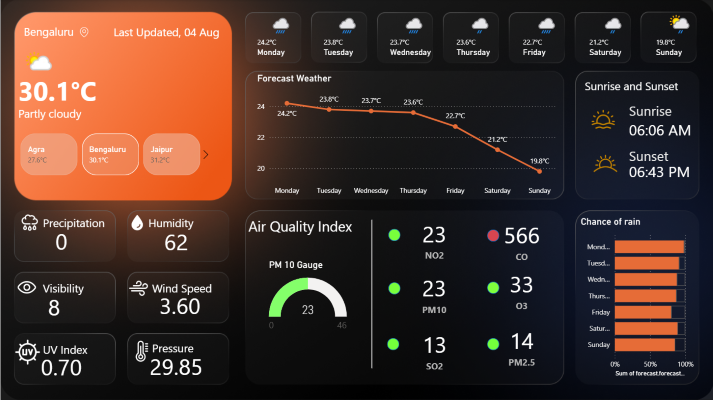

This screenshot's page, from the dashboard's own definition file:
{"tool":"powerbi","page":{"name":"Page 1","canvas":[1280,720],"ordinal":0},"visuals":[{"type":"shape","box":[1125.9,262.2,154.1,91.9],"z":0,"group":"g1"},{"type":"advancedSlicerVisual","fields":{"Values":["Location.location.name"]},"box":[10.7,235.7,372.6,85.7],"z":0},{"type":"shape","box":[1125.9,234.6,154.1,91.9],"z":1000,"group":"g1"},{"type":"shape","box":[32.1,115.5,153.6,92.9],"z":1000},{"type":"shape","box":[32.1,161.9,328.6,84.5],"z":2000},{"type":"shape","box":[41.9,14.8,110.9,86.3],"z":3000},{"type":"shape","box":[193.2,40.5,198.6,35.1],"z":4000},{"type":"image","box":[106.8,44.6,86.5,27],"z":5000},{"type":"cardVisual","fields":{"Data":["Min(Current.current.condition.icon)"]},"box":[19,69,103.6,92.9],"z":6000},{"type":"image","box":[21.6,491.9,50,48.6],"z":7000},{"type":"shape","box":[75.7,364.9,154.1,68.9],"z":8000},{"type":"shape","box":[264.9,364.9,154.1,68.9],"z":9000},{"type":"shape","box":[75.7,481.1,154.1,68.9],"z":10000},{"type":"shape","box":[271.6,481.1,154.1,68.9],"z":11000},{"type":"shape","box":[75.7,591.9,154.1,68.9],"z":12000},{"type":"shape","box":[271.6,589.2,154.1,68.9],"z":13000},{"type":"image","box":[29.7,377,45.9,45.9],"z":14000},{"type":"image","box":[18.9,604.1,59.5,56.8],"z":15000},{"type":"image","box":[225.7,377,39.2,45.9],"z":16000},{"type":"image","box":[221.6,494.6,50,45.9],"z":17000},{"type":"image","box":[229.7,604.1,47.3,54.1],"z":18000},{"type":"card","fields":{"Values":["Sum(Current.current.humidity)"]},"box":[258.1,401.4,113.5,64.9],"z":19000},{"type":"card","fields":{"Values":["Sum(Current.current.wind_kph)"]},"box":[264.9,516.2,113.5,64.9],"z":20000},{"type":"card","fields":{"Values":["Sum(Current.current.pressure_in)"]},"box":[258.1,624.3,113.5,64.9],"z":21000},{"type":"card","fields":{"Values":["Sum(Current.current.uv)"]},"box":[52.7,625.7,113.5,64.9],"z":22000},{"type":"card","fields":{"Values":["Sum(Current.current.vis_km)"]},"box":[39.2,517.6,113.5,64.9],"z":23000},{"type":"card","fields":{"Values":["Sum(Current.current.precip_in)"]},"box":[52.7,400,113.5,64.9],"z":24000},{"type":"advancedSlicerVisual","fields":{"Values":["Forceast_by_day.Day Name"]},"box":[441.9,14.9,837.8,101.4],"z":25000},{"type":"lineChart","title":"Forecast Weather","fields":{"Category":["Forceast_by_day.Day Name"],"Y":["Sum(Forceast_by_day.forecast.forecastday.day.avgtemp_c)"]},"box":[455.4,131.1,545.9,229.7],"z":26000},{"type":"shape","box":[1047.3,140.5,200,35.1],"z":27000},{"type":"shape","box":[1125.9,186.8,154.1,91.9],"z":28000},{"type":"shape","box":[1125.9,153.2,154.1,91.9],"z":29000},{"type":"group","id":"g1","title":"Group 1","box":[1125.9,234.6,154.1,120.3],"z":30000},{"type":"image","box":[1053.5,188.6,52.7,51.4],"z":31000},{"type":"image","box":[1048.6,260.5,68.9,66.2],"z":32000},{"type":"hundredPercentStackedBarChart","title":"Chance of rain","fields":{"Y":["Sum(Forceast_by_day.forecast.forecastday.day.daily_chance_of_rain)","_Measures.Left_Value_Rain"],"Category":["Forceast_by_day.Day Name"]},"box":[1034.7,388.2,212.2,293.6],"z":33000},{"type":"card","fields":{"Values":["Sum(Current.current.air_quality.co)"]},"box":[871.6,387.8,124.3,87.8],"z":34000},{"type":"shape","box":[444.2,371.7,250.7,69.3],"z":35000},{"type":"card","fields":{"Values":["Sum(Current.current.air_quality.o3)"]},"box":[871.6,475.7,124.3,87.8],"z":36000},{"type":"card","fields":{"Values":["Sum(Current.current.air_quality.no2)"]},"box":[720.3,385.1,114.9,90.5],"z":37000},{"type":"card","fields":{"Values":["Sum(Current.current.air_quality.pm10)"]},"box":[704.1,474.3,147.3,106.8],"z":38000},{"type":"card","fields":{"Values":["Sum(Current.current.air_quality.so2)"]},"box":[716.2,589.2,124.3,78.4],"z":39000},{"type":"card","fields":{"Values":["Sum(Current.current.air_quality.pm2_5)"]},"box":[871.6,577,124.3,87.8],"z":40000},{"type":"shape","box":[694.6,410.8,21.6,21.6],"z":41000},{"type":"shape","box":[693.2,606.8,21.6,21.6],"z":42000},{"type":"shape","box":[694.6,506.8,21.6,21.6],"z":43000},{"type":"shape","box":[871.6,505.4,21.6,21.6],"z":44000},{"type":"shape","box":[871.6,606.8,21.6,21.6],"z":45000},{"type":"shape","box":[871.6,412.2,21.6,21.6],"z":46000},{"type":"shape","box":[587.8,394.6,154.1,266.2],"z":47000},{"type":"gauge","fields":{"Y":["Sum(Current.current.air_quality.pm10)"]},"box":[476.1,465.1,149.5,149.5],"z":48000}]}

Visuals, with their boxes in screenshot pixels (x1, y1, x2, y2), scaled from the page's 1280x720 canvas onto the 713x400 screenshot:
shape: BBox(627, 146, 712, 197)
advancedSlicerVisual - Location.location.name: BBox(6, 131, 214, 179)
shape: BBox(627, 130, 712, 181)
shape: BBox(18, 64, 103, 116)
shape: BBox(18, 90, 201, 137)
shape: BBox(23, 8, 85, 56)
shape: BBox(108, 22, 218, 42)
image: BBox(59, 25, 108, 40)
cardVisual - Min(Current.current.condition.icon): BBox(11, 38, 68, 90)
image: BBox(12, 273, 40, 300)
shape: BBox(42, 203, 128, 241)
shape: BBox(148, 203, 233, 241)
shape: BBox(42, 267, 128, 306)
shape: BBox(151, 267, 237, 306)
shape: BBox(42, 329, 128, 367)
shape: BBox(151, 327, 237, 366)
image: BBox(17, 209, 42, 235)
image: BBox(11, 336, 44, 367)
image: BBox(126, 209, 148, 235)
image: BBox(123, 275, 151, 300)
image: BBox(128, 336, 154, 366)
card - Sum(Current.current.humidity): BBox(144, 223, 207, 259)
card - Sum(Current.current.wind_kph): BBox(148, 287, 211, 323)
card - Sum(Current.current.pressure_in): BBox(144, 347, 207, 383)
card - Sum(Current.current.uv): BBox(29, 348, 93, 384)
card - Sum(Current.current.vis_km): BBox(22, 288, 85, 324)
card - Sum(Current.current.precip_in): BBox(29, 222, 93, 258)
advancedSlicerVisual - Forceast_by_day.Day Name: BBox(246, 8, 712, 65)
"Forecast Weather" lineChart: BBox(254, 73, 558, 200)
shape: BBox(583, 78, 695, 98)
shape: BBox(627, 104, 712, 155)
shape: BBox(627, 85, 712, 136)
"Group 1" group: BBox(627, 130, 712, 197)
image: BBox(587, 105, 616, 133)
image: BBox(584, 145, 622, 182)
"Chance of rain" hundredPercentStackedBarChart: BBox(576, 216, 695, 379)
card - Sum(Current.current.air_quality.co): BBox(486, 215, 555, 264)
shape: BBox(247, 206, 387, 245)
card - Sum(Current.current.air_quality.o3): BBox(486, 264, 555, 313)
card - Sum(Current.current.air_quality.no2): BBox(401, 214, 465, 264)
card - Sum(Current.current.air_quality.pm10): BBox(392, 264, 474, 323)
card - Sum(Current.current.air_quality.so2): BBox(399, 327, 468, 371)
card - Sum(Current.current.air_quality.pm2_5): BBox(486, 321, 555, 369)
shape: BBox(387, 228, 399, 240)
shape: BBox(386, 337, 398, 349)
shape: BBox(387, 282, 399, 294)
shape: BBox(486, 281, 498, 293)
shape: BBox(486, 337, 498, 349)
shape: BBox(486, 229, 498, 241)
shape: BBox(327, 219, 413, 367)
gauge - Sum(Current.current.air_quality.pm10): BBox(265, 258, 348, 341)
